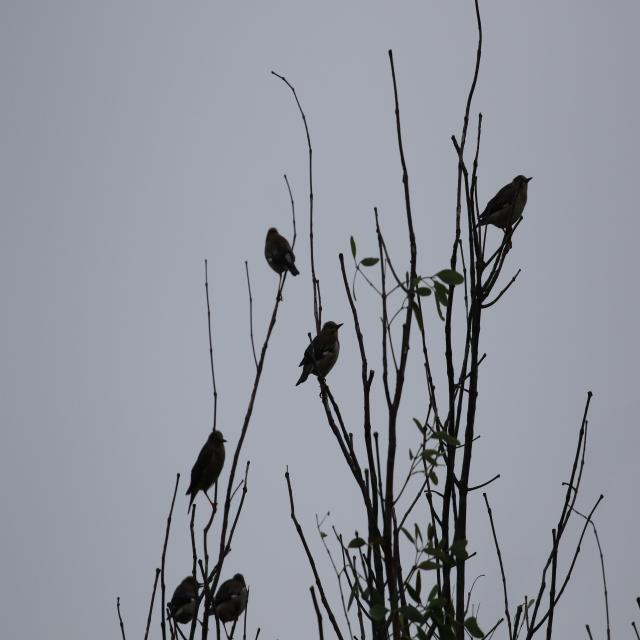bird: (472, 175, 533, 244), (185, 430, 228, 515), (296, 321, 344, 386), (204, 574, 248, 638), (264, 226, 300, 301), (166, 576, 203, 624)
